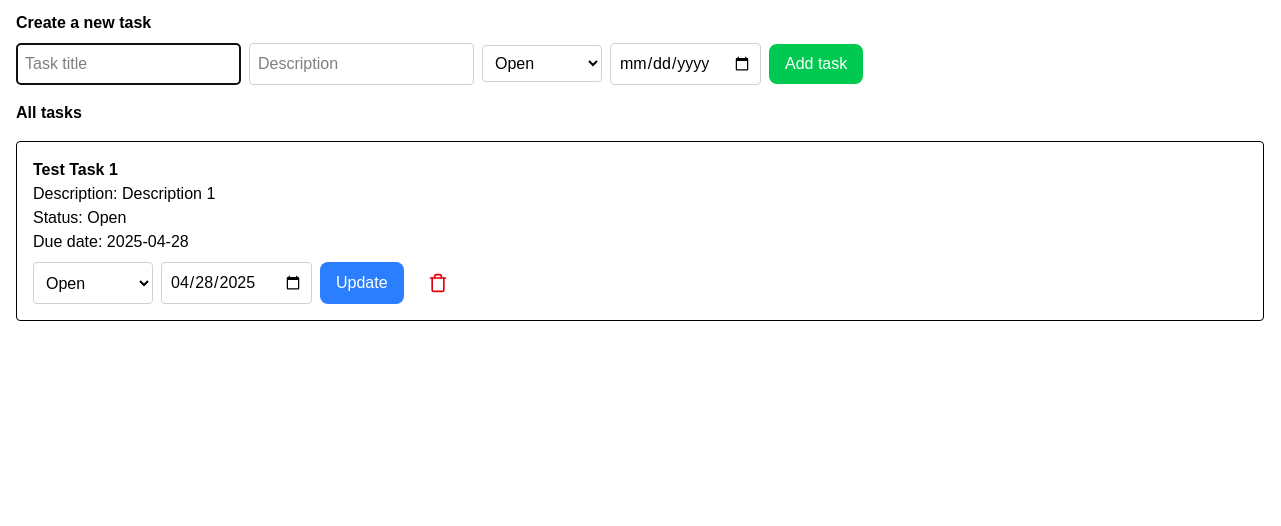
it: TaskList component › allows user to create a new task through the form
Expected: the heading "Test Task 1" is shown, x1=33 y1=161 x2=118 y2=178
Type "New Task" into the field with placeholder "Task title" at (128, 64), box x1=16 y1=43 x2=241 y2=85
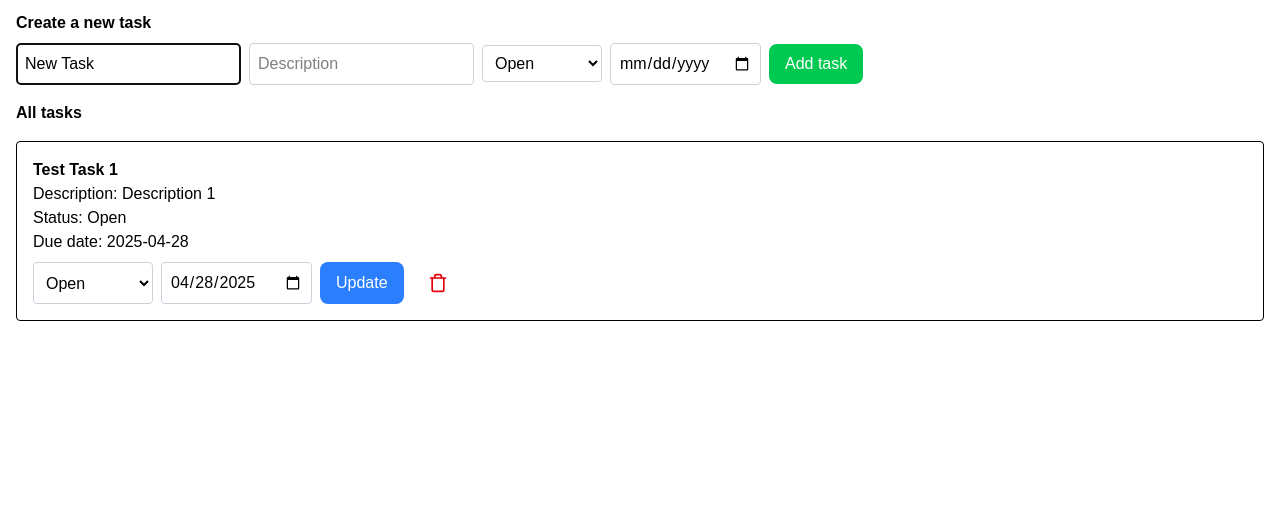
Type "New Description" into the field with placeholder "Description" at (362, 64), box x1=249 y1=43 x2=474 y2=85
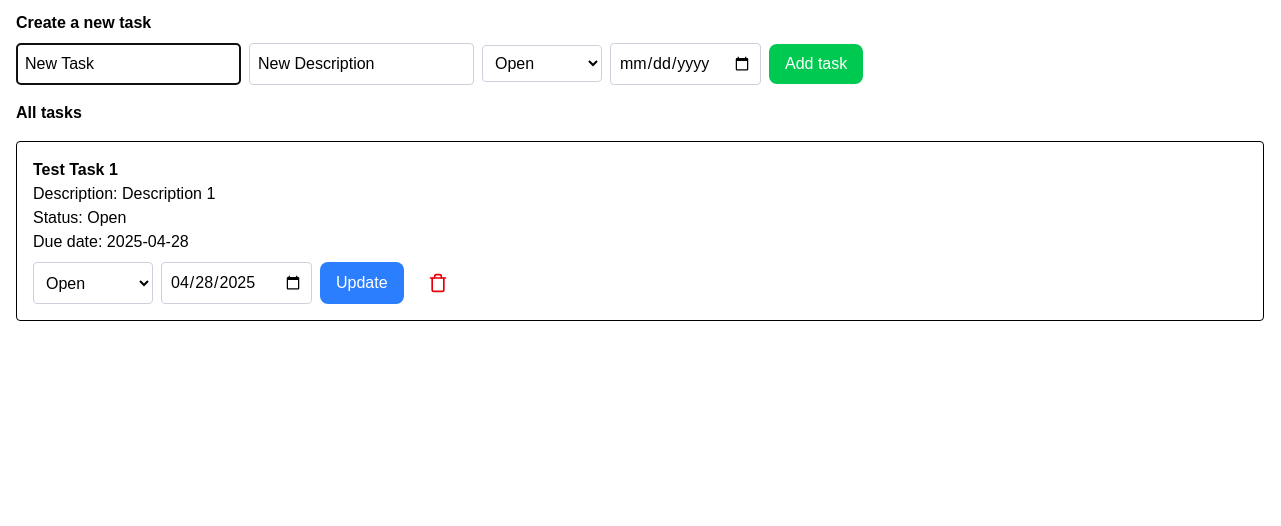
Select "Open" in the 1st dropdown showing "Open" at (542, 64), box x1=482 y1=45 x2=602 y2=82
Type "2025-12-31" into the 1st date field at (686, 64), box x1=610 y1=43 x2=761 y2=85
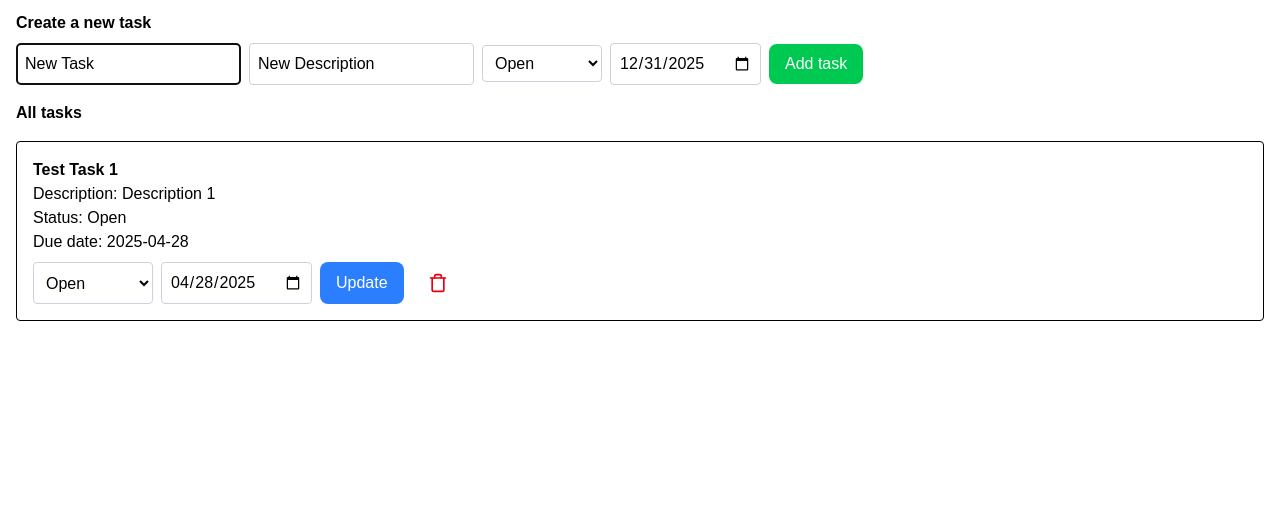
Click the button "Add task" at (816, 64), box x1=769 y1=44 x2=863 y2=84
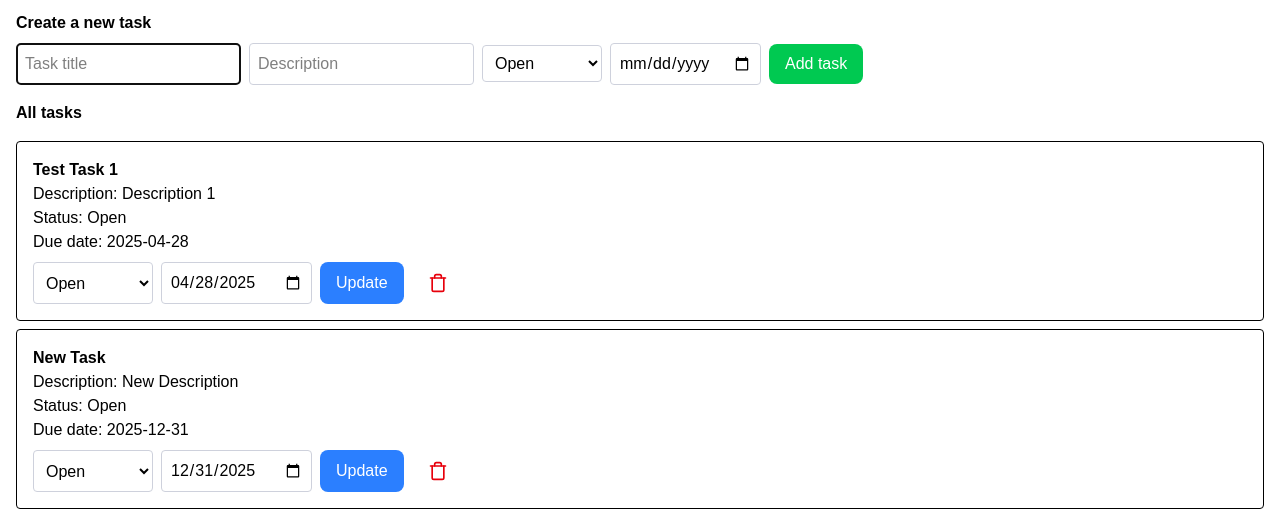
Expected: the heading "New Task" is shown, x1=33 y1=349 x2=106 y2=366
